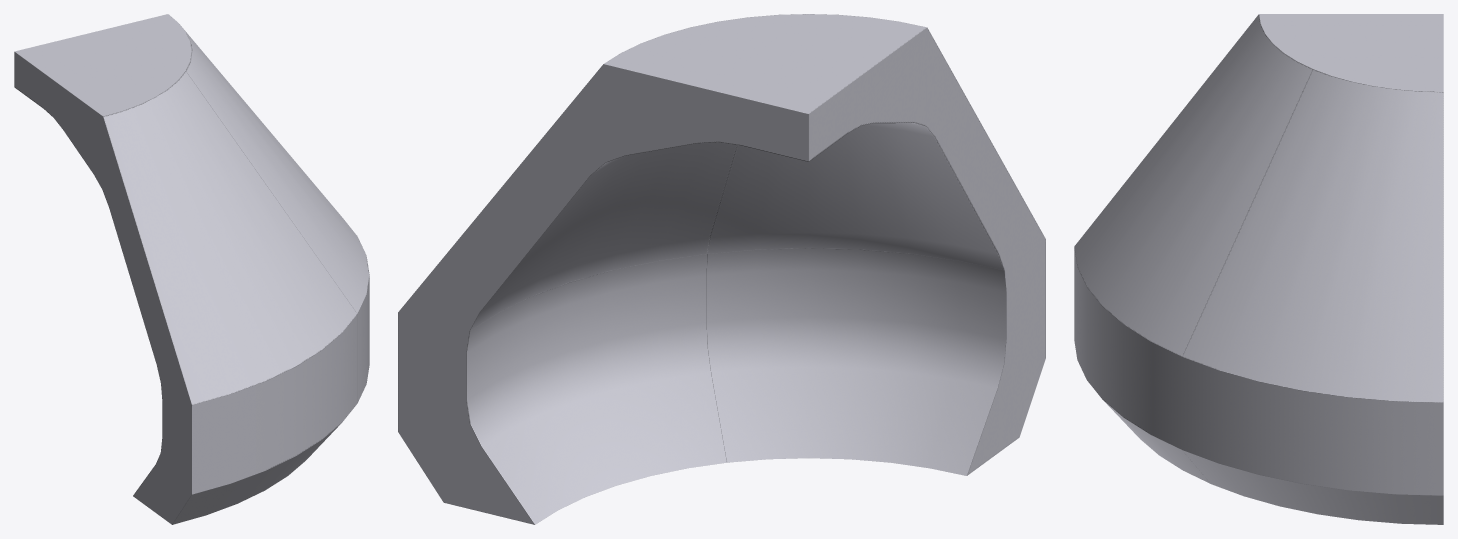
Rendered from Wall_Angle_01.FBX.
3 renders of one model, left to right at view 1: azimuth 30°, elevation 25°; view 2: azimuth 150°, elevation 25°; view 3: azimuth 270°, elevation 25°, orthographic. The views are drawn at different scales.
Visible parts, largest first — view 1: Wall_Angle_01; view 2: Wall_Angle_01; view 3: Wall_Angle_01.
Boxes of the visible parts, bbox=[...] form: Wall_Angle_01: bbox=[14, 14, 369, 524]; Wall_Angle_01: bbox=[398, 14, 1045, 524]; Wall_Angle_01: bbox=[1074, 14, 1443, 524].
Bounding box in the file's own units: 9 × 10 × 9.
3 materials, 3 textured.
